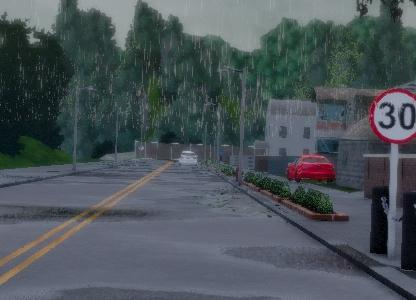Speed_30: (363, 83, 416, 147)
